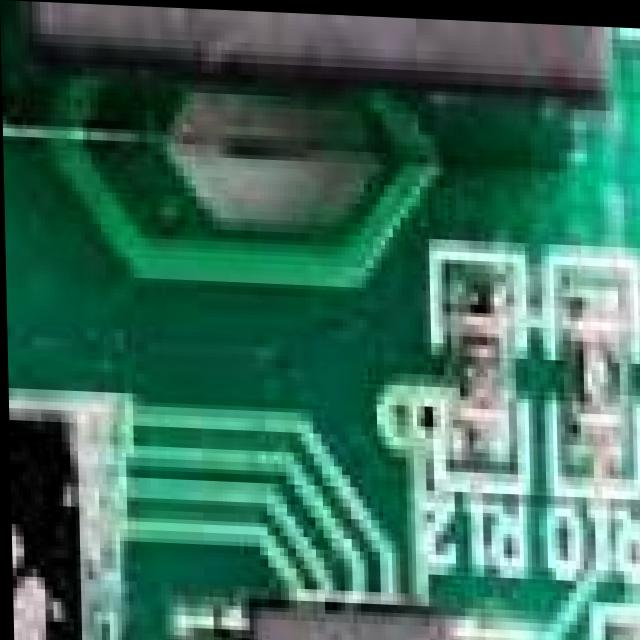IC: (214, 579, 471, 640)
display: (8, 436, 75, 640)
resistor: (555, 277, 620, 457), (437, 287, 515, 434)
